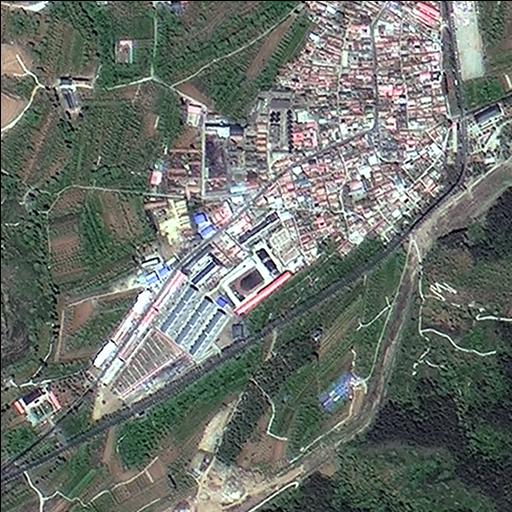school: (221, 213, 290, 314)
